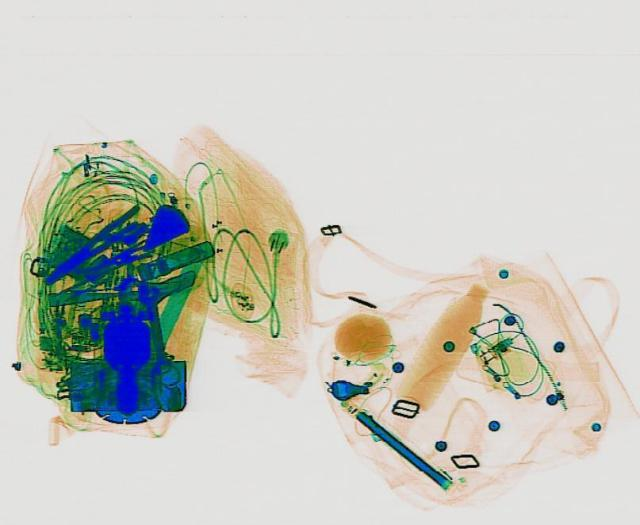Pliers: (32, 203, 152, 288)
